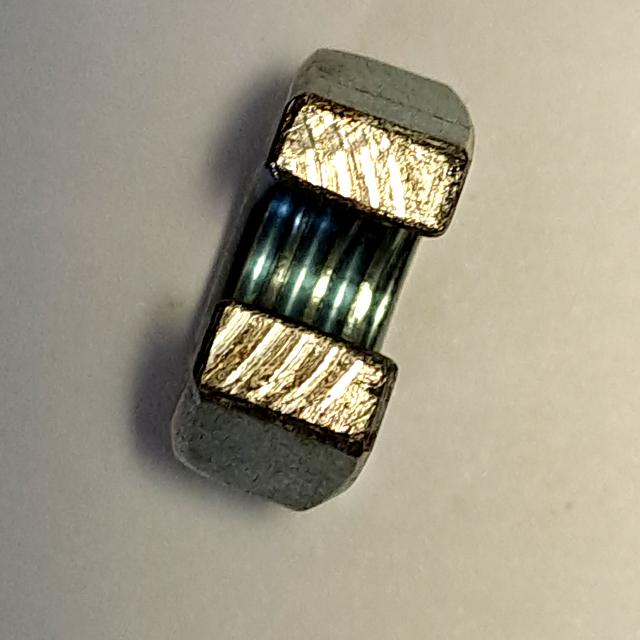Side-Fracture: (151, 36, 491, 529)
